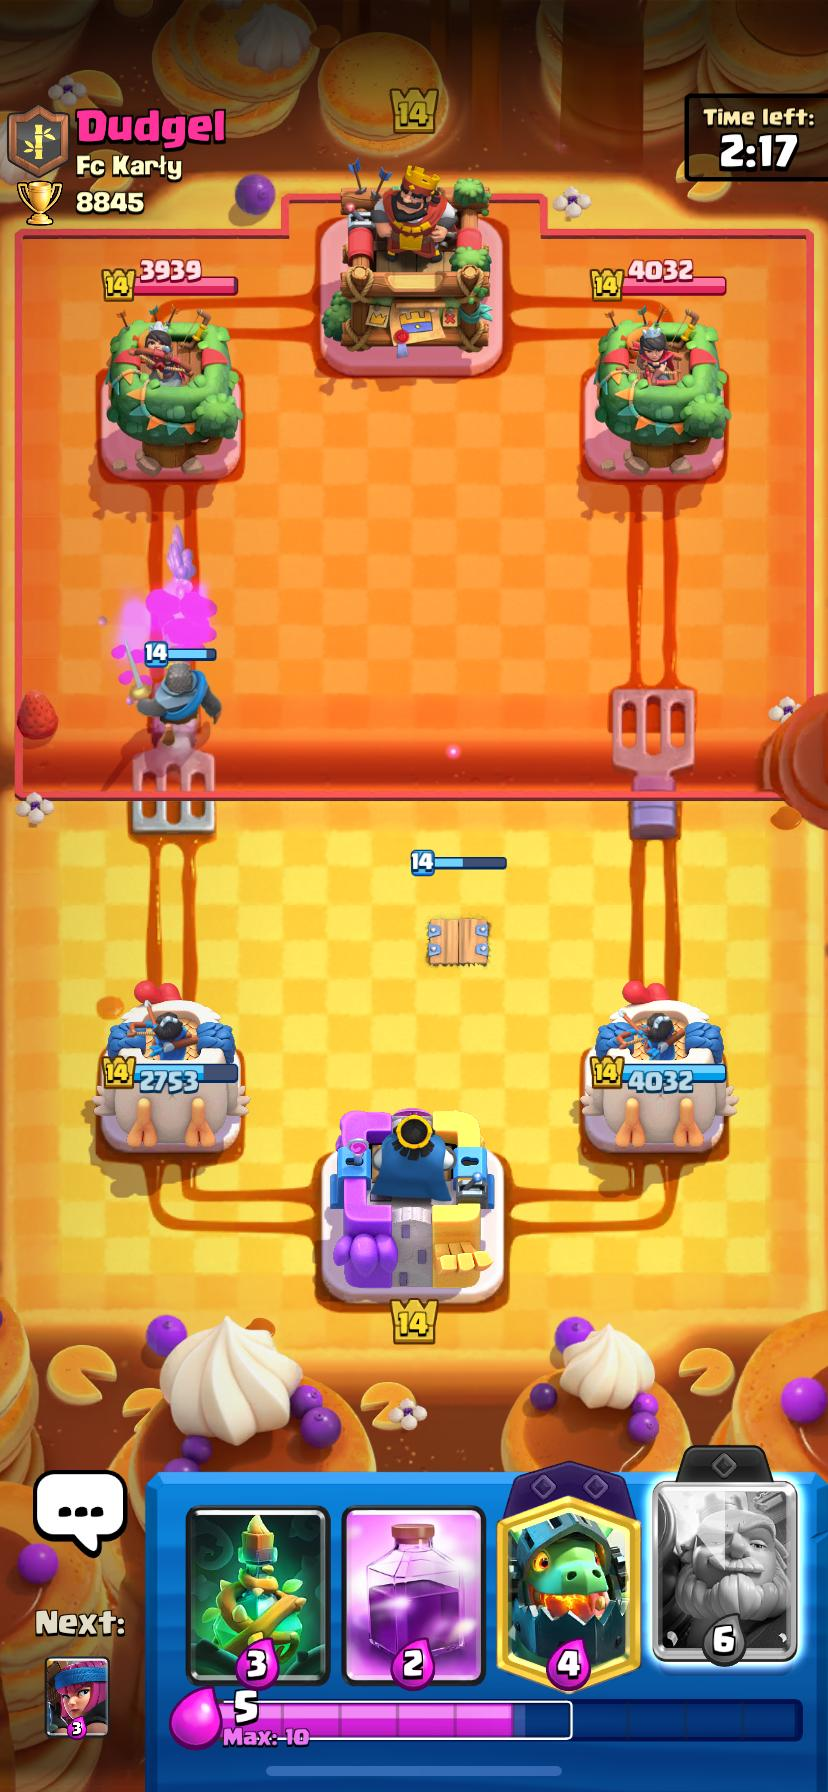EKingTower: (323, 167, 491, 357)
EnemyPrincessTower: (594, 312, 730, 473), (106, 311, 242, 467)
OKnight: (132, 659, 220, 725)
OTesla: (427, 918, 489, 965)
OwnKingTower: (331, 1109, 494, 1301)
OwnPrincessTower: (580, 982, 735, 1151), (94, 983, 247, 1151)
